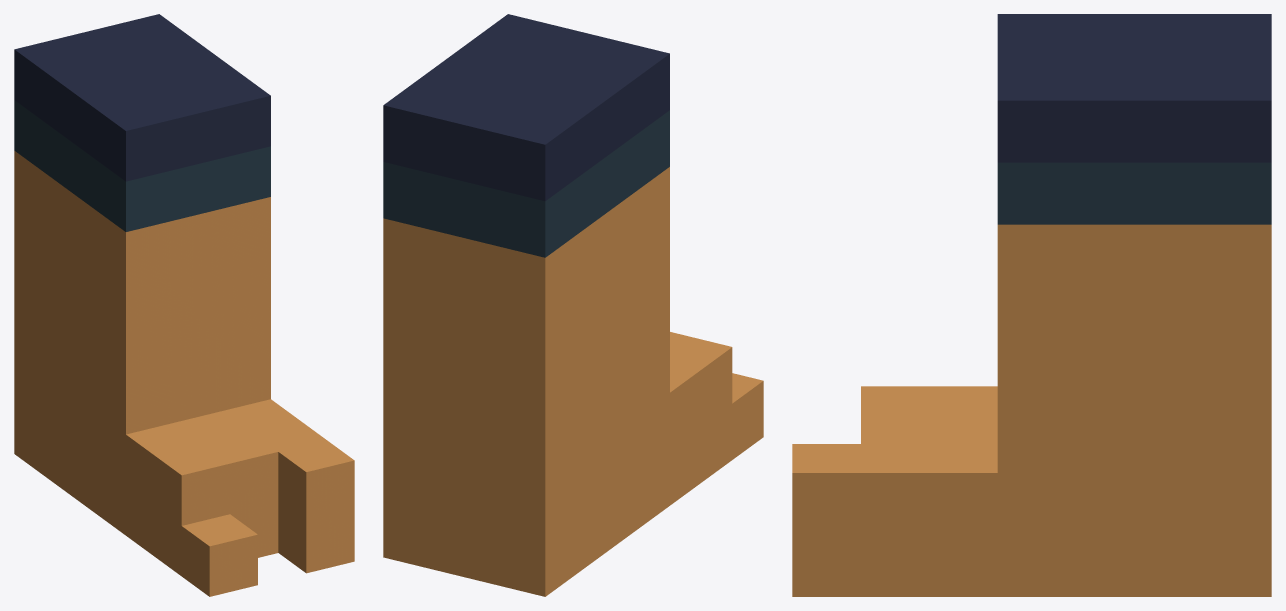
Rendered from Capitain-0.obj.
3 views of the same model, side by side, from view 1: azimuth 30°, elevation 25°; view 2: azimuth 150°, elevation 25°; view 3: azimuth 270°, elevation 25° (orthographic). The views are drawn at different scales.
Size of the model in its own units: 0.3 by 0.8 by 0.7.
1 material, 1 textured.
